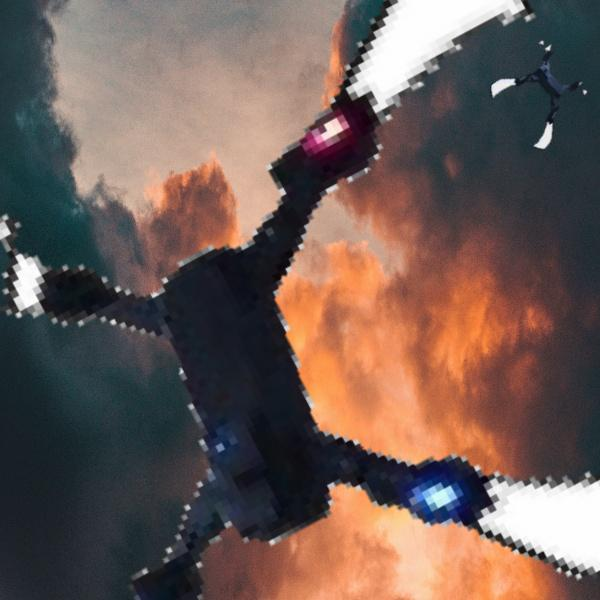drone: (495, 47, 591, 143)
